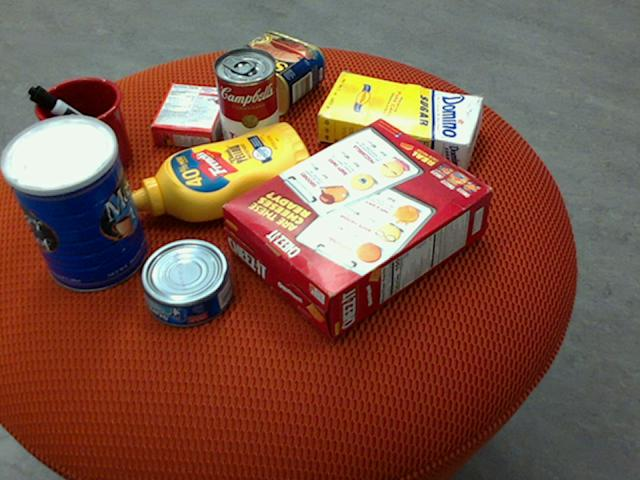cracker_box: (222, 117, 493, 338)
gelatin_box: (150, 82, 232, 148)
large_marker: (28, 85, 128, 157)
master_chef_can: (0, 115, 148, 292)
mug: (25, 77, 131, 180)
mustard_bottle: (126, 122, 315, 222)
potted_meat_can: (220, 31, 326, 115)
sugar_box: (317, 72, 485, 169)
tomato_soup_can: (214, 46, 280, 155)
tuna_fish_can: (140, 239, 234, 328)
